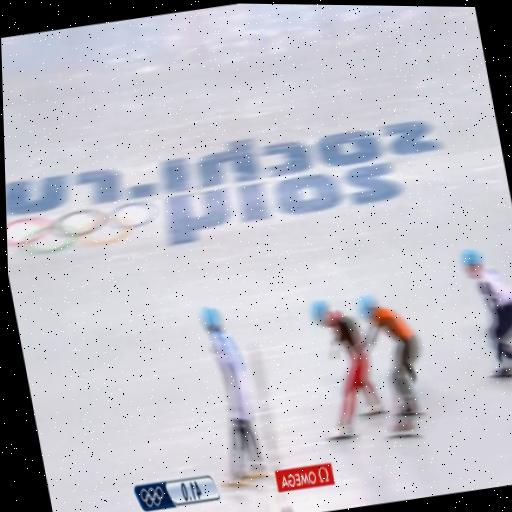Skater: (200, 307, 266, 485), (310, 301, 383, 439), (357, 296, 418, 431), (460, 250, 511, 377)
